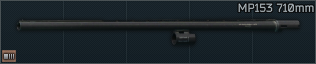MP-153 12ga 710mm barrel: (0, 0, 316, 64)
